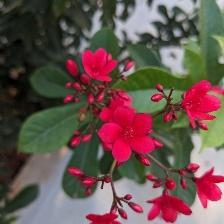jatropha: (98, 106, 158, 164)
